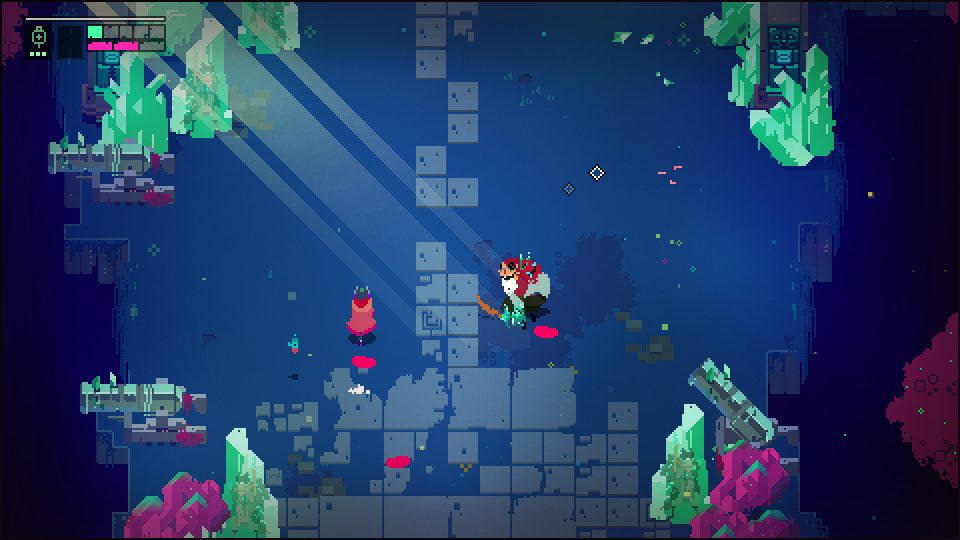hanged_man: (485, 254, 553, 335)
player: (346, 281, 377, 344)
